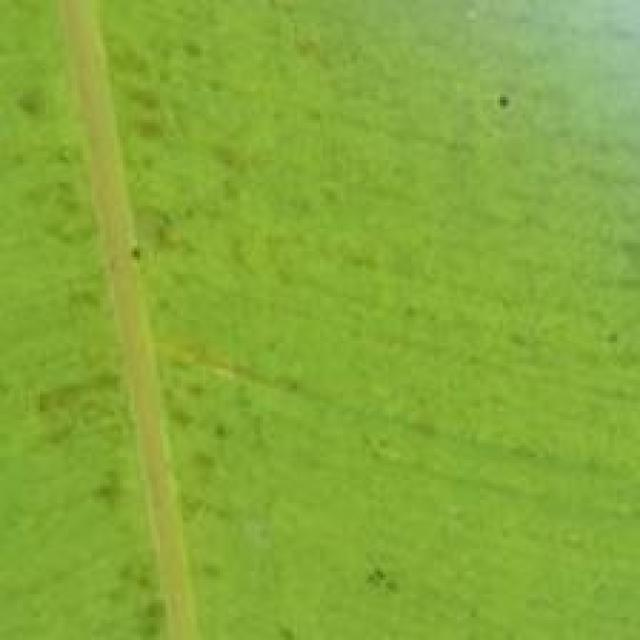Black_leaf_spot: (5, 0, 640, 628)
